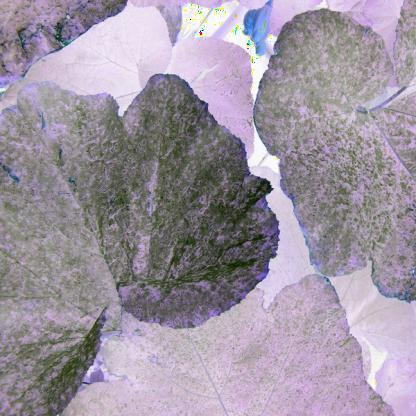Squash Powdery mildew leaf: (1, 62, 287, 391), (253, 4, 415, 305)
